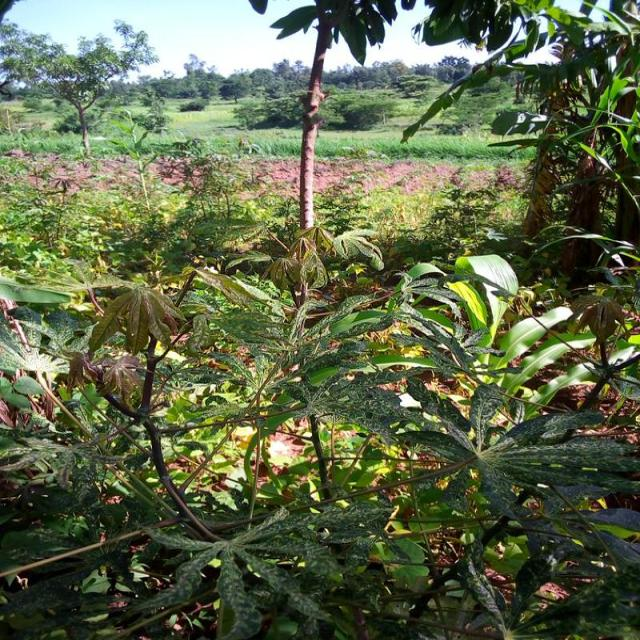cassava leaf: (444, 252, 518, 349)
